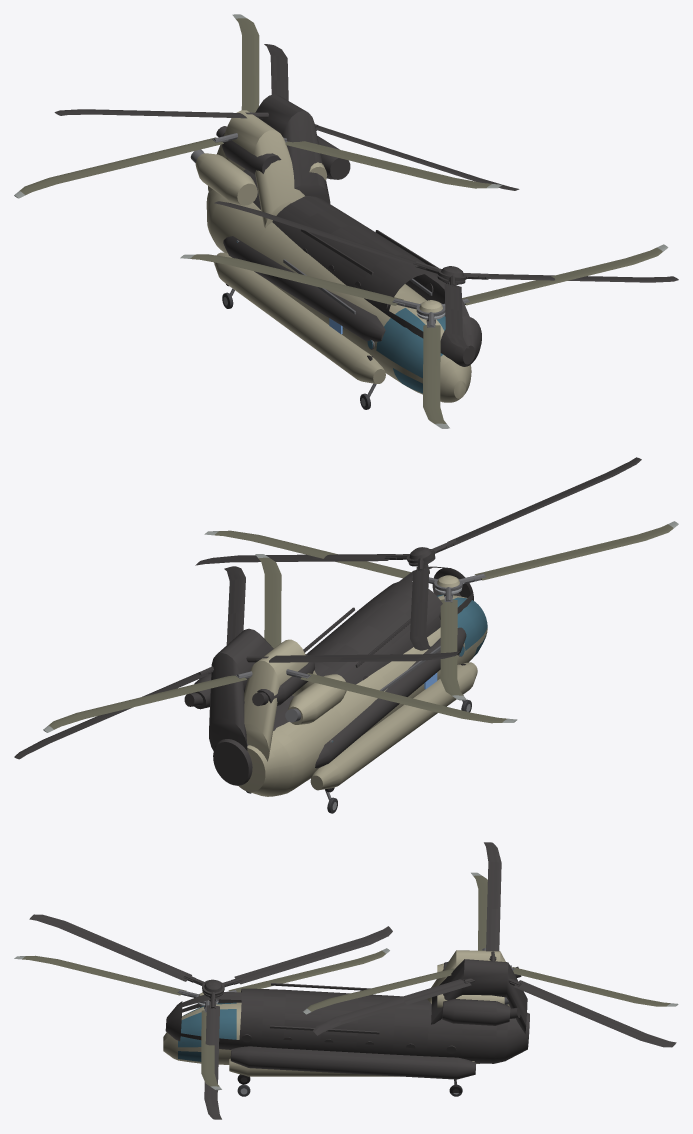
The model's file is heavyLift__ch_47f_i_chinook.glb.
The picture shows the model from 3 angles, top to bottom: view 1: azimuth 30°, elevation 25°; view 2: azimuth 150°, elevation 25°; view 3: azimuth 270°, elevation 25°; orthographic projection. The views are drawn at different scales.
Parts seen in each view (by area): view 1: Wreck, Fuselage_Mesh, Rotor_Main_Mesh, Rotor_Main_2_Mesh, Engines_Mesh; view 2: Wreck, Fuselage_Mesh, Rotor_Main_Mesh, Rotor_Main_2_Mesh, Engines_Mesh; view 3: Wreck, Fuselage_Mesh, Rotor_Main_Mesh, Rotor_Main_2_Mesh, Engines_Mesh.
Boxes of the visible parts, x1,y1,x2,y2 form: Wreck: [54, 44, 678, 366]; Fuselage_Mesh: [206, 110, 471, 402]; Rotor_Main_Mesh: [180, 244, 668, 428]; Rotor_Main_2_Mesh: [14, 14, 502, 198]; Engines_Mesh: [190, 149, 327, 205]; Wreck: [14, 457, 641, 792]; Fuselage_Mesh: [238, 594, 487, 796]; Rotor_Main_Mesh: [204, 521, 678, 700]; Rotor_Main_2_Mesh: [43, 554, 517, 732]; Engines_Mesh: [285, 674, 346, 724]; Wreck: [29, 842, 676, 1119]; Fuselage_Mesh: [163, 950, 509, 1076]; Rotor_Main_Mesh: [14, 948, 389, 1090]; Rotor_Main_2_Mesh: [303, 872, 678, 1014]; Engines_Mesh: [437, 963, 511, 1007].
Size of what is drawn, in the model's own units: 18.65 by 7.8 by 28.27.
